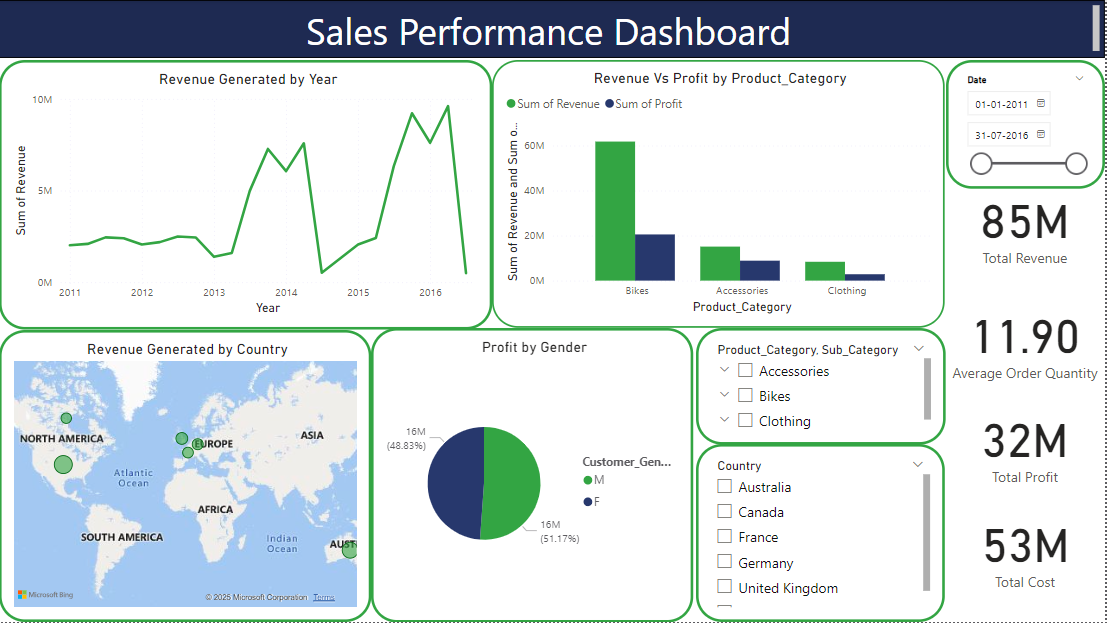

What the dashboard file says about the page in this screenshot:
{"tool":"powerbi","page":{"name":"Page 1","canvas":[1280,720],"ordinal":0},"visuals":[{"type":"card","fields":{"Values":["sales_data.Total Revenue"]},"box":[1094.9,159.4,185.1,200.5],"z":0},{"type":"card","fields":{"Values":["sales_data.Total Cost"]},"box":[1094.9,551.3,185.1,168.4],"z":1000},{"type":"card","fields":{"Values":["sales_data.Total Profit"]},"box":[1094.9,435.7,185.1,155.5],"z":2000},{"type":"card","fields":{"Values":["sales_data.Average Order Quantity"]},"box":[1094.9,313.6,185.1,159.4],"z":3000},{"type":"clusteredColumnChart","title":"Revenue Vs Profit by Product_Category","fields":{"Category":["sales_data.Product_Category"],"Y":["Sum(sales_data.Revenue)","Sum(sales_data.Profit)"]},"box":[570.6,69.4,524.3,309.7],"z":4000},{"type":"map","title":"Revenue Generated by Country","fields":{"Category":["sales_data.Country"],"Size":["Sum(sales_data.Revenue)"]},"box":[0,381.7,430.5,338],"z":5000},{"type":"lineChart","title":"Revenue Generated by Year ","fields":{"Y":["Sum(sales_data.Revenue)"],"Category":["sales_data.Date.Variation.Date Hierarchy.Year","sales_data.Date.Variation.Date Hierarchy.Quarter"]},"box":[0,69.4,570.6,312.3],"z":6000},{"type":"pieChart","title":"Profit by Gender","fields":{"Category":["sales_data.Customer_Gender"],"Y":["Sum(sales_data.Profit)"]},"box":[430.5,379.1,372.7,340.6],"z":7000},{"type":"textbox","box":[0,0,1280,66.8],"z":8000},{"type":"slicer","fields":{"Values":["sales_data.Date"]},"box":[1096.2,69.4,183.8,149.1],"z":9000},{"type":"slicer","fields":{"Values":["sales_data.Product_Category","sales_data.Sub_Category"]},"box":[807.1,379.1,289.2,134.9],"z":10000},{"type":"slicer","fields":{"Values":["sales_data.Country"]},"box":[807.1,514.1,287.9,205.6],"z":11000}]}

Visuals, with their boxes in screenshot pixels (x1, y1, x2, y2), scaled from the page's 1280x720 canvas onto the 1107x623 screenshot:
card - sales_data.Total Revenue: Rect(947, 138, 1106, 311)
card - sales_data.Total Cost: Rect(947, 477, 1106, 622)
card - sales_data.Total Profit: Rect(947, 377, 1106, 512)
card - sales_data.Average Order Quantity: Rect(947, 271, 1106, 409)
"Revenue Vs Profit by Product_Category" clusteredColumnChart: Rect(493, 60, 947, 328)
"Revenue Generated by Country" map: Rect(0, 330, 372, 622)
"Revenue Generated by Year " lineChart: Rect(0, 60, 493, 330)
"Profit by Gender" pieChart: Rect(372, 328, 695, 622)
textbox: Rect(0, 0, 1106, 58)
slicer - sales_data.Date: Rect(948, 60, 1106, 189)
slicer - sales_data.Product_Category x sales_data.Sub_Category: Rect(698, 328, 948, 445)
slicer - sales_data.Country: Rect(698, 445, 947, 622)
